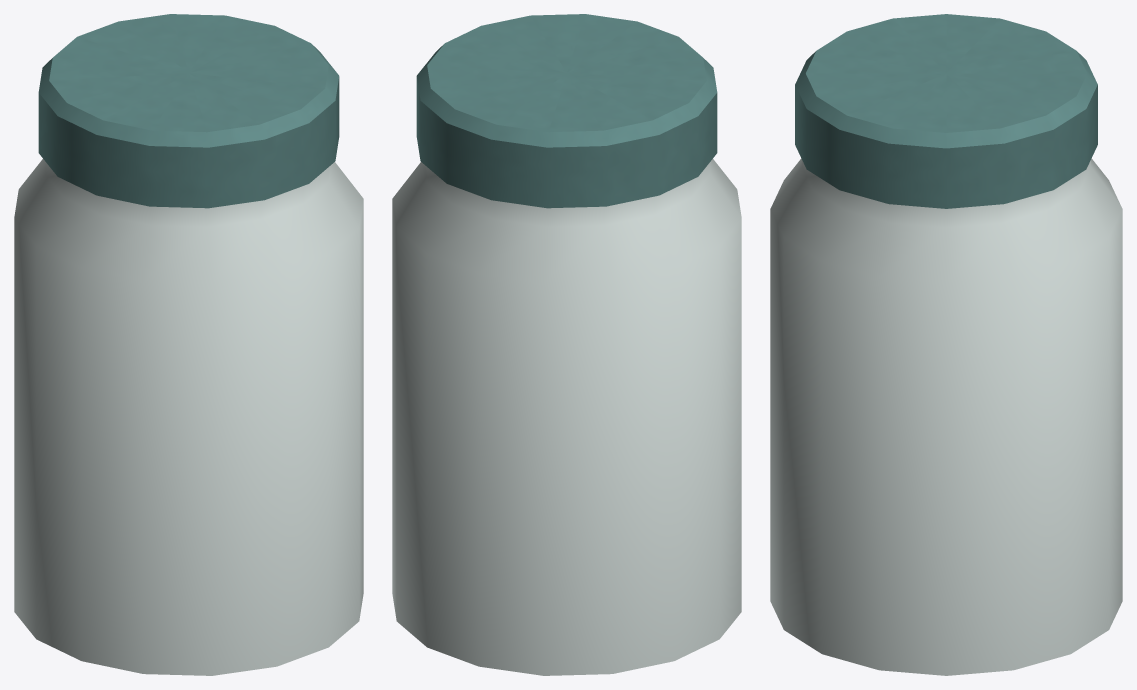
Rendered from SM_Jar_L_Honey.fbx.
The picture shows the model from 3 angles, left to right: view 1: azimuth 30°, elevation 25°; view 2: azimuth 150°, elevation 25°; view 3: azimuth 270°, elevation 25°; orthographic projection.
Parts seen in each view (by area): view 1: SM_Jar_L_Honey; view 2: SM_Jar_L_Honey; view 3: SM_Jar_L_Honey.
Part boxes in pixels (x1,y1,x2,y2): SM_Jar_L_Honey: (14,14,363,675); SM_Jar_L_Honey: (392,14,741,675); SM_Jar_L_Honey: (770,14,1122,675).
Size of the model in its own units: 0.116 by 0.192 by 0.116.
Materials: 3 (3 with a texture image).
